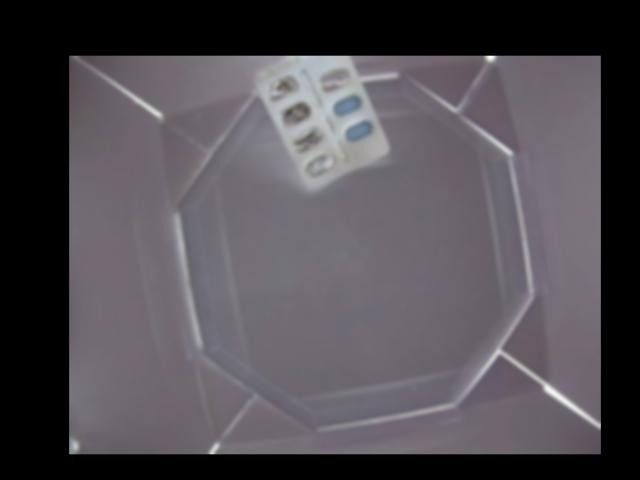Medicine: (246, 56, 392, 191)
